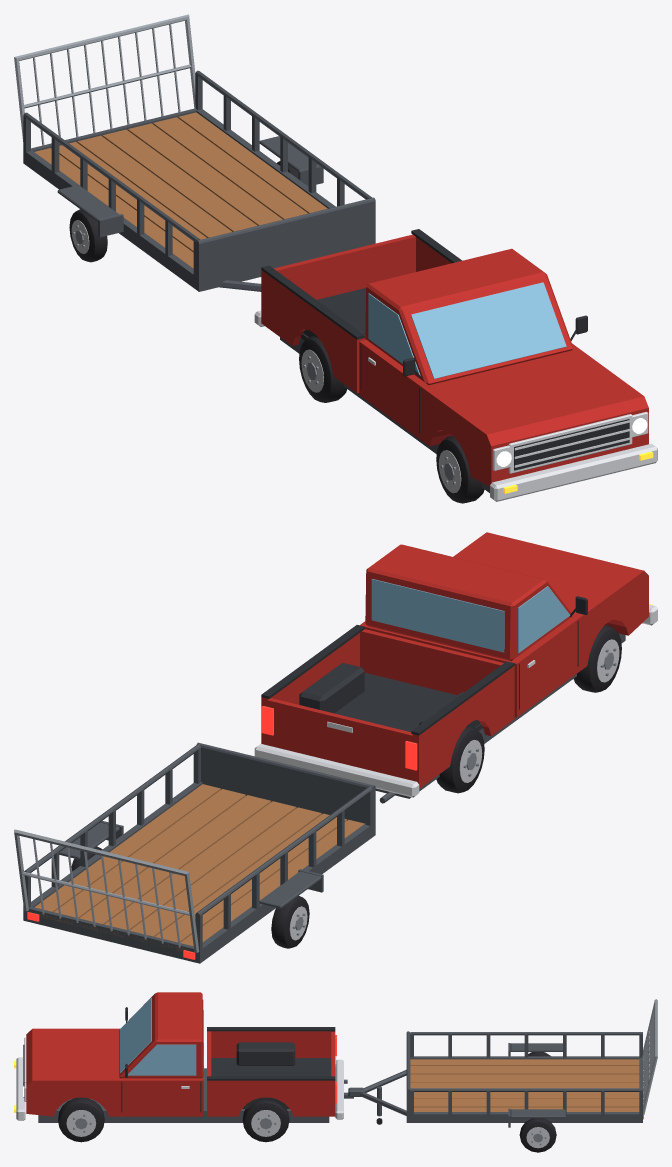
Rendered from veh_pickup_trailer.glb.
3 views of the same model, one above another, from view 1: azimuth 30°, elevation 25°; view 2: azimuth 150°, elevation 25°; view 3: azimuth 270°, elevation 25° (orthographic). The views are drawn at different scales.
Visible parts, largest first — view 1: Body, Wheel_1R, Wheel_2R, Wheel_T1R; view 2: Body, Wheel_1R, Wheel_2R, Wheel_T1R; view 3: Body, Wheel_1L, Wheel_2L, Wheel_T1L.
Boxes of the visible parts, x1=… form: Body: x1=14, y1=14, x2=657, y2=501; Wheel_1R: x1=436, y1=435, x2=484, y2=503; Wheel_2R: x1=299, y1=336, x2=347, y2=402; Wheel_T1R: x1=69, y1=209, x2=107, y2=262; Body: x1=14, y1=532, x2=657, y2=963; Wheel_1R: x1=573, y1=625, x2=621, y2=692; Wheel_2R: x1=436, y1=726, x2=484, y2=793; Wheel_T1R: x1=271, y1=896, x2=309, y2=948; Body: x1=14, y1=992, x2=657, y2=1127; Wheel_1L: x1=58, y1=1097, x2=104, y2=1142; Wheel_2L: x1=242, y1=1100, x2=289, y2=1142; Wheel_T1L: x1=519, y1=1118, x2=556, y2=1152.
Bounding box in the file's own units: 2.84 × 1.85 × 10.52.
